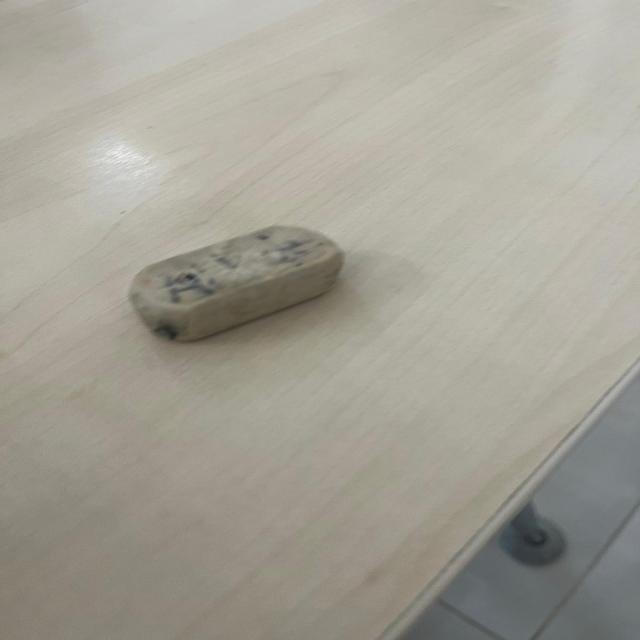eraser: (120, 206, 355, 363)
